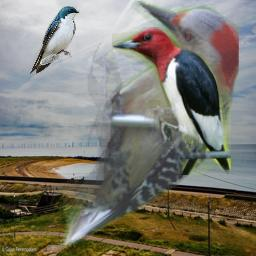Swallow: (29, 6, 80, 75)
Woodpecker: (57, 1, 239, 253), (112, 27, 231, 175)
